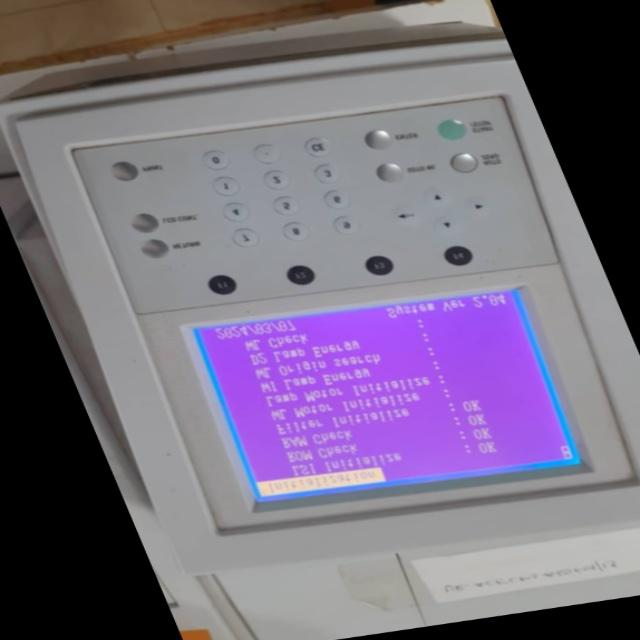Spectrophotometer: (0, 32, 640, 560)
